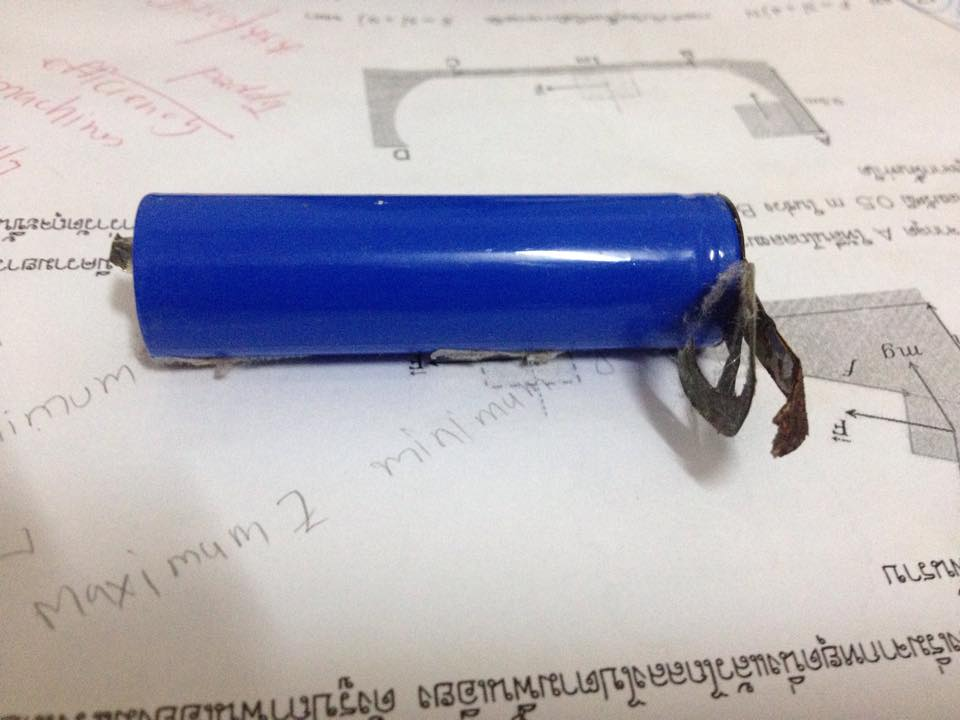Battery: (125, 183, 761, 369)
